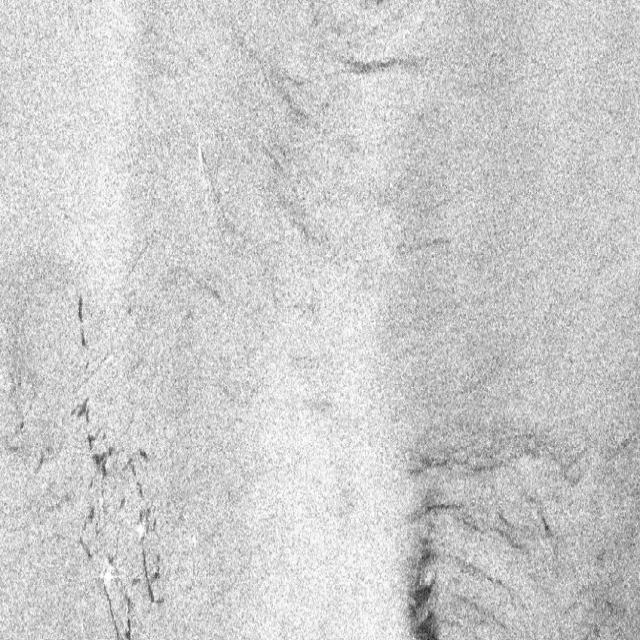look-alike: (395, 448, 506, 638), (332, 35, 413, 88), (536, 511, 555, 540)
oil-spill: (67, 396, 167, 638), (69, 289, 94, 357)
ship: (97, 551, 117, 596), (130, 511, 147, 549)
